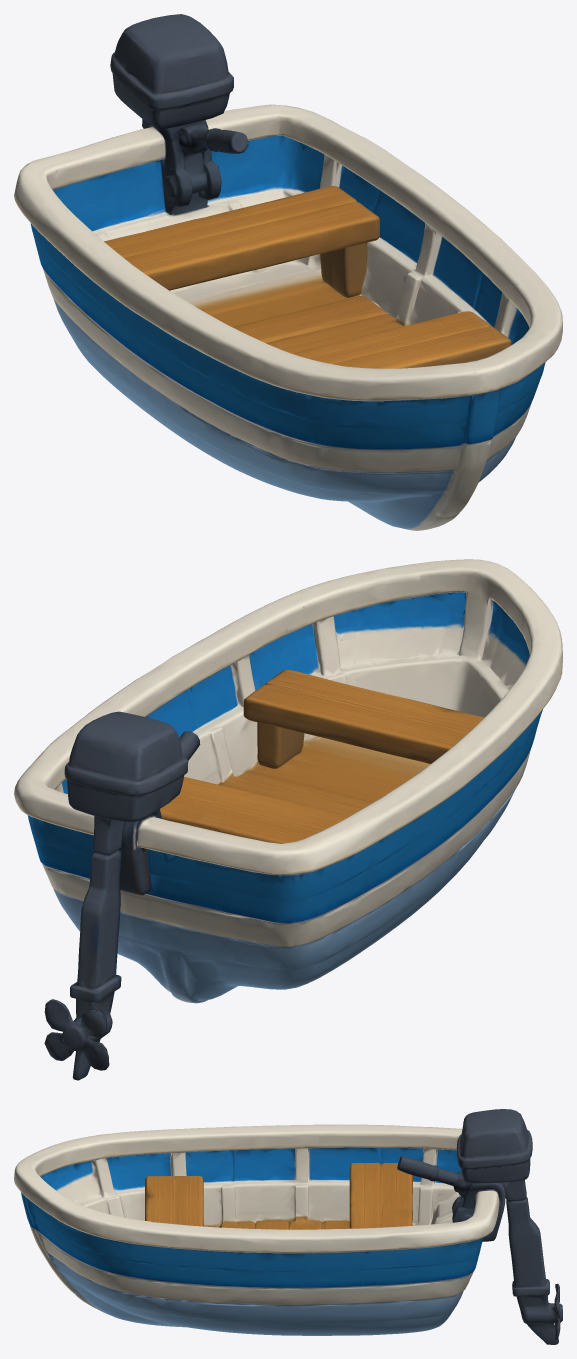
Rendered from display.glb.
3 views of the same model, one above another, from view 1: azimuth 30°, elevation 25°; view 2: azimuth 150°, elevation 25°; view 3: azimuth 270°, elevation 25° (orthographic). The views are drawn at different scales.
Parts seen in each view (by area): view 1: tripo_node_ecd0dfdd-019b-4097-ab71-0ad6b2638efe; view 2: tripo_node_ecd0dfdd-019b-4097-ab71-0ad6b2638efe; view 3: tripo_node_ecd0dfdd-019b-4097-ab71-0ad6b2638efe.
Part boxes in pixels (x1=…): tripo_node_ecd0dfdd-019b-4097-ab71-0ad6b2638efe: x1=14, y1=14, x2=562, y2=530; tripo_node_ecd0dfdd-019b-4097-ab71-0ad6b2638efe: x1=14, y1=559, x2=562, y2=1080; tripo_node_ecd0dfdd-019b-4097-ab71-0ad6b2638efe: x1=14, y1=1109, x2=562, y2=1344.
Bounding box in the file's own units: 0.4953 × 0.4521 × 1.
1 material, 1 textured.
